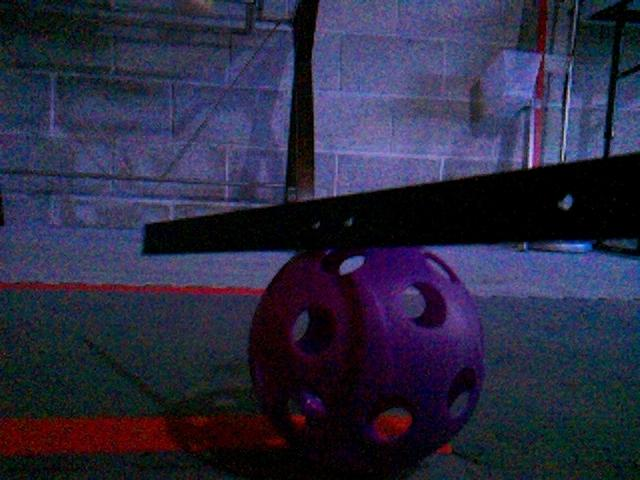Purple: (247, 244, 491, 475)
